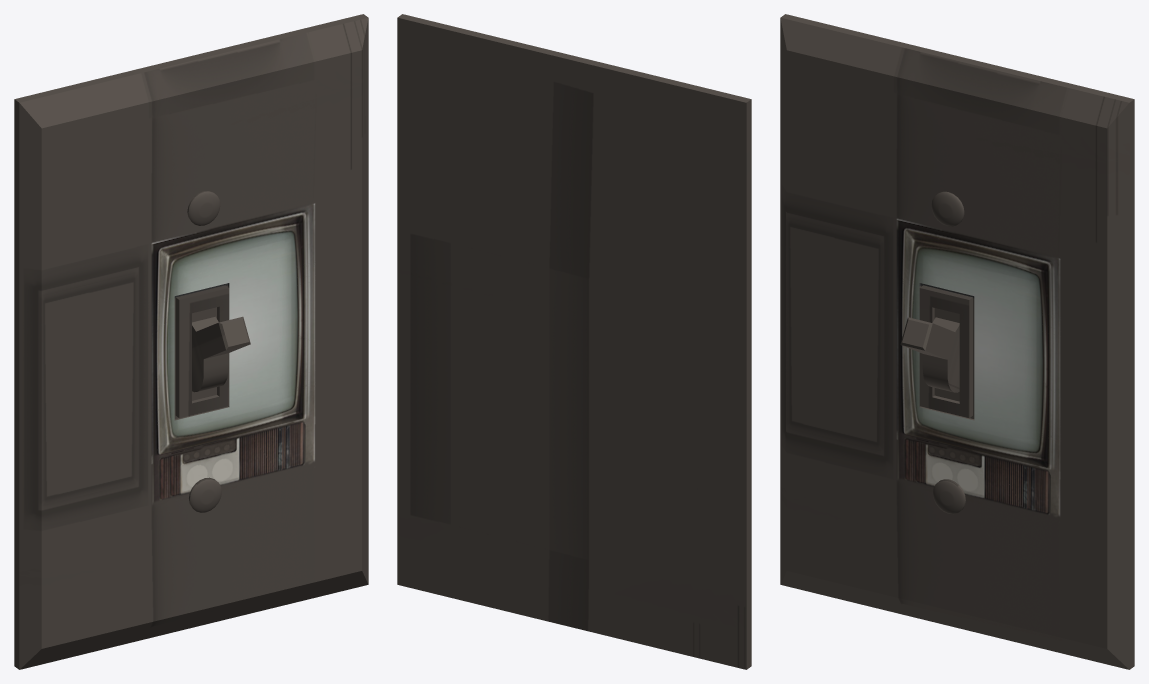
File: Kasey_Lightswitch.fbx
3 views of the same model, side by side, from view 1: azimuth 30°, elevation 25°; view 2: azimuth 150°, elevation 25°; view 3: azimuth 330°, elevation 25° (orthographic).
Visible parts, largest first — view 1: pCube3; view 2: pCube3; view 3: pCube3.
Part boxes in pixels (box(x1,y1,x2,y2)): pCube3: box(14, 14, 368, 669); pCube3: box(397, 14, 751, 669); pCube3: box(780, 14, 1134, 669).
Size of the model in its own units: 1.75 by 2.71 by 0.4225.
